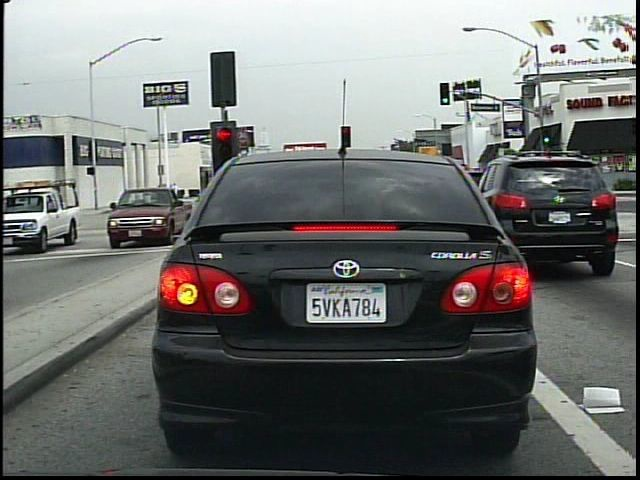person: (163, 173, 185, 203)
